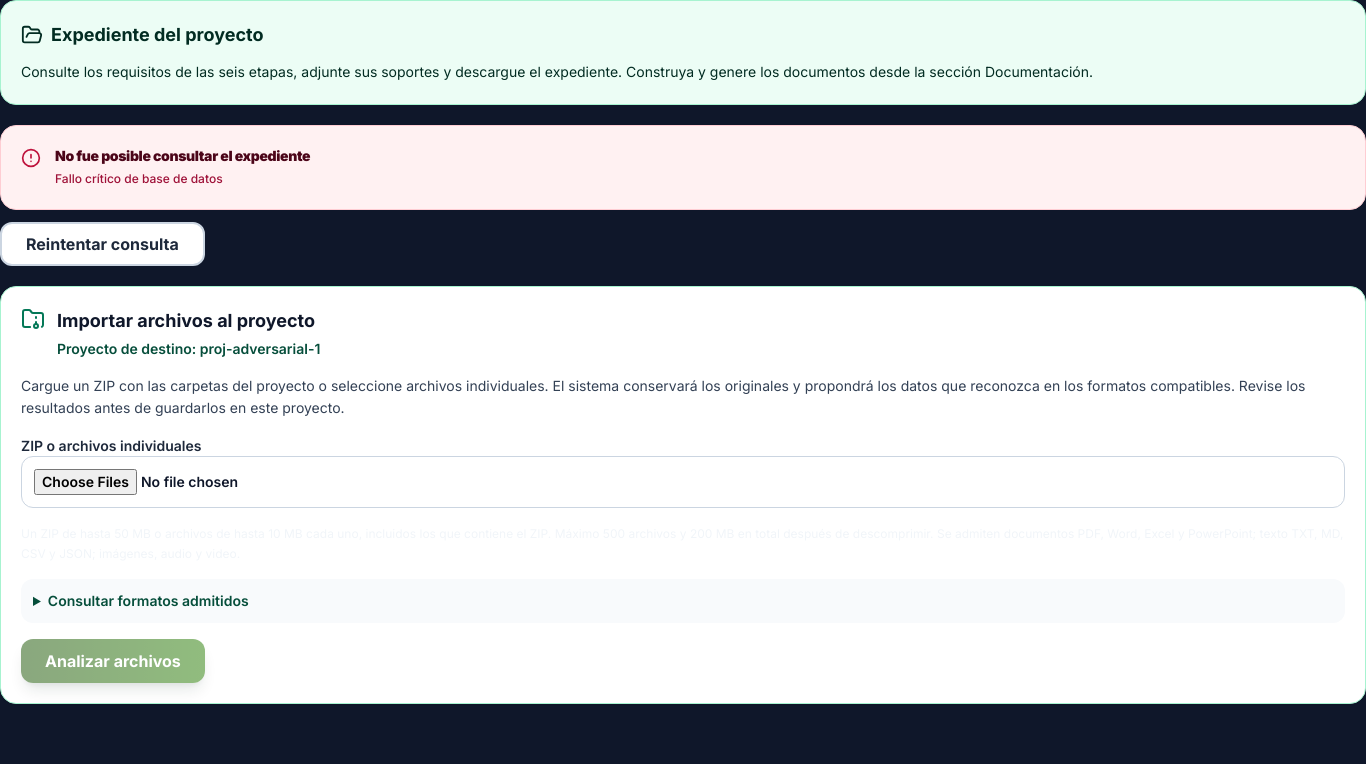
Test: Pruebas Adversariales y de Estrés Empírico — Expediente Documental (M3) › 4. Propagación de Errores y Reintentos con ErrorBanner › ProjectEvidenceFile gestiona errores al consultar expediente y al descargar documentos
Expected: the message shows "Fallo crítico de base de datos", 55,171 -> 223,186
Expected: the heading "No fue posible consultar el expediente" is shown, 55,146 -> 310,165
Click the button "Reintentar consulta".
click(102, 244)  # box 0,222 -> 205,266
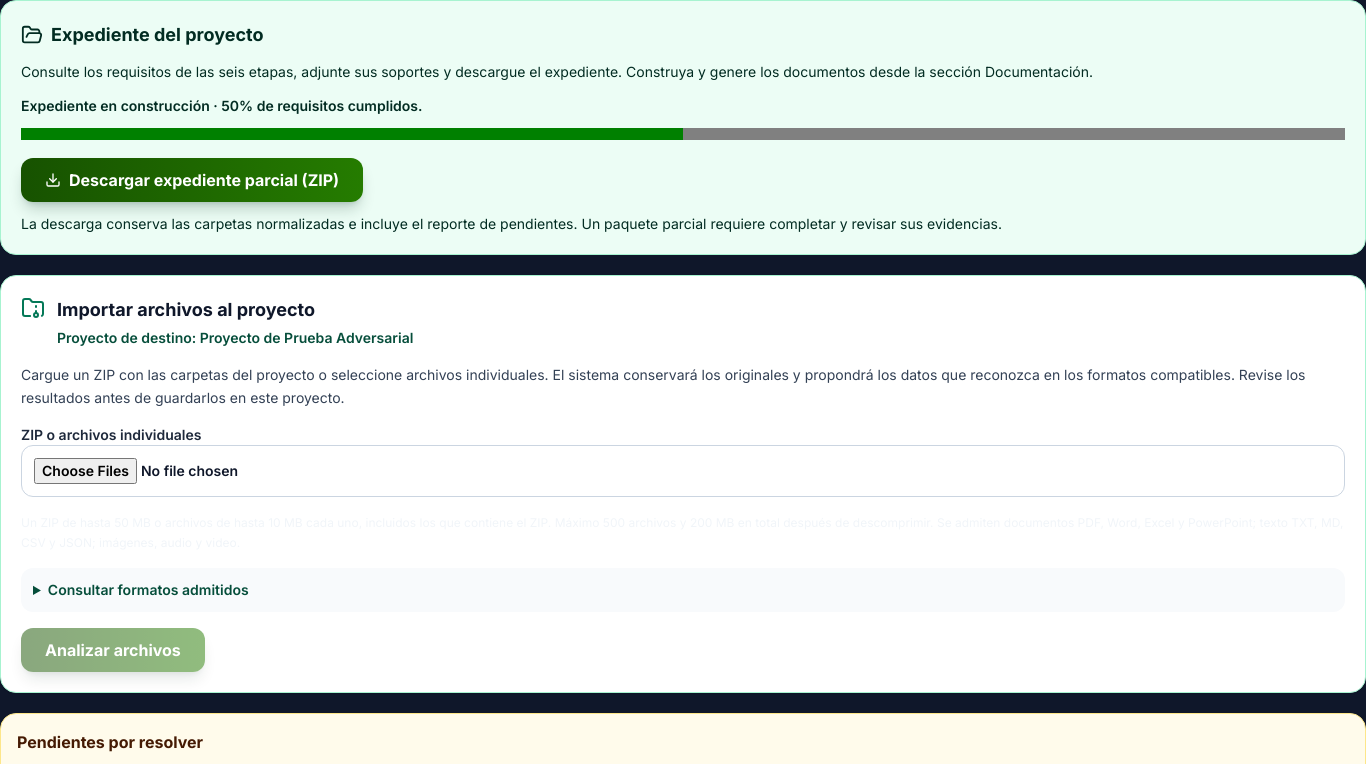
Expected: the heading "Expediente del proyecto" is shown, 21,24 -> 264,46
Result: the text "Fallo crítico de base de datos" is gone
Click the button "Descargar expediente parcial (ZIP)".
click(192, 180)  # box 21,158 -> 363,202
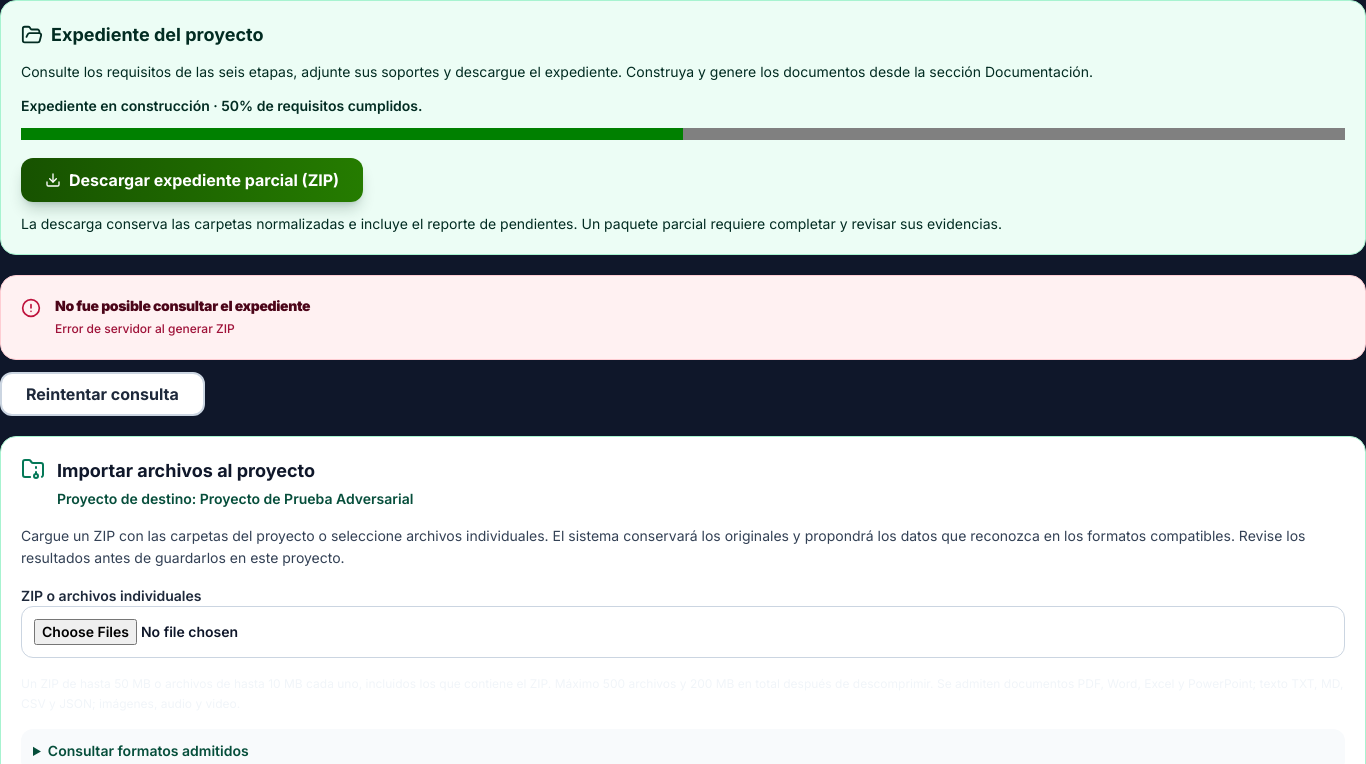
Result: the message shows "Error de servidor al generar ZIP" at 55,321 -> 235,336
